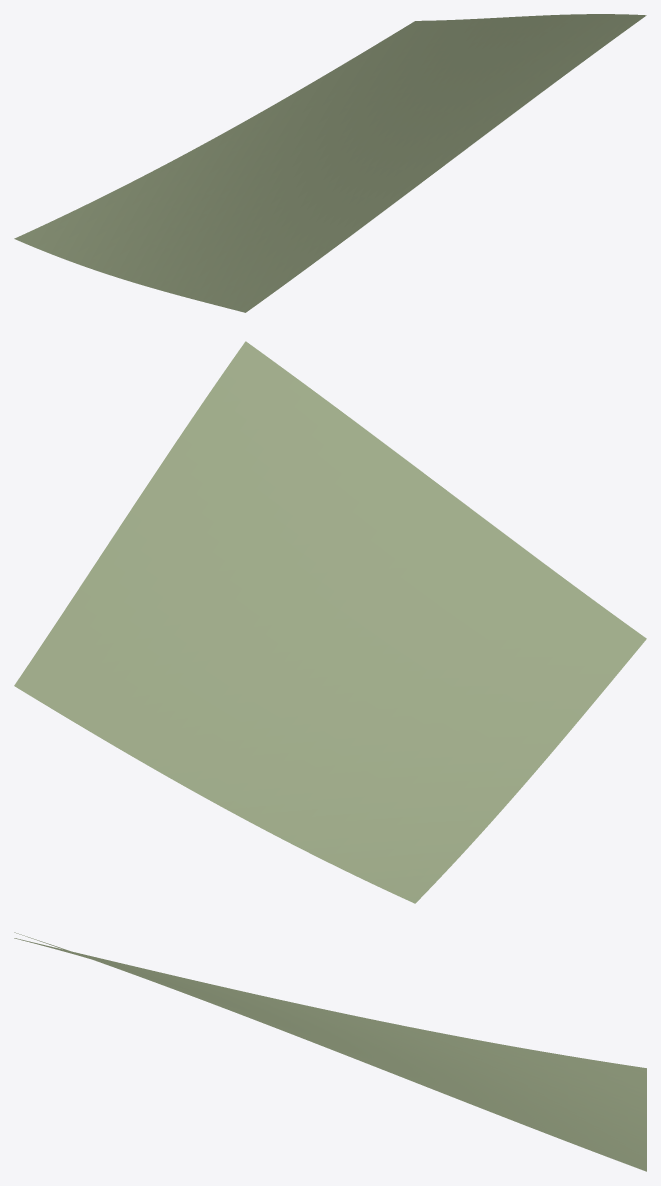
File: alpine-5-4.glb
The picture shows the model from 3 angles, top to bottom: view 1: azimuth 30°, elevation 25°; view 2: azimuth 150°, elevation 25°; view 3: azimuth 270°, elevation 25°; orthographic projection. The views are drawn at different scales.
Parts seen in each view (by area): view 1: alpine-5-4; view 2: alpine-5-4; view 3: alpine-5-4.
Boxes of the visible parts, x1=… form: alpine-5-4: x1=14, y1=14, x2=646, y2=312; alpine-5-4: x1=14, y1=341, x2=646, y2=903; alpine-5-4: x1=14, y1=932, x2=646, y2=1171.
Size of the model in its own units: 256 by 180 by 256.
